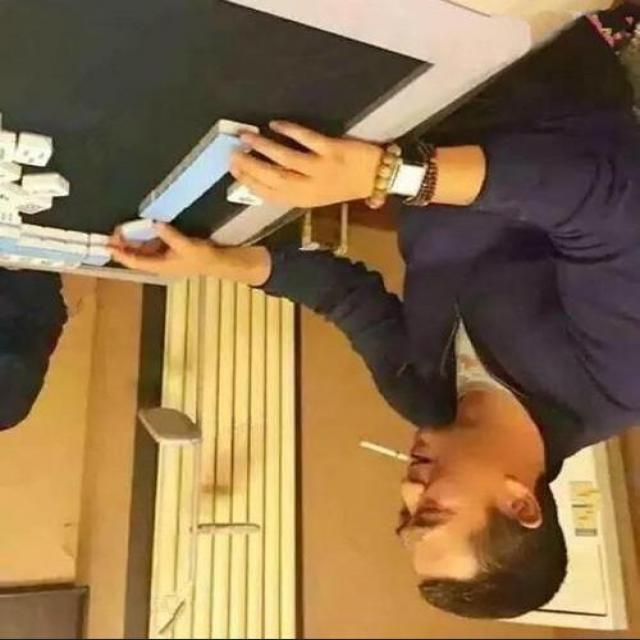cigarette: (342, 435, 432, 475)
